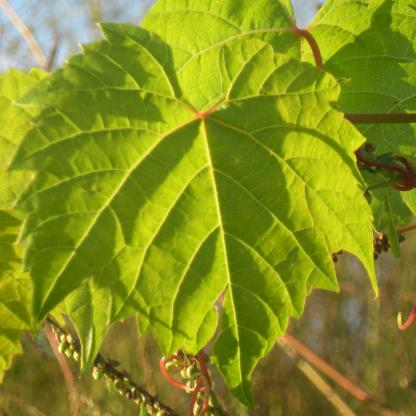grape leaf: (18, 24, 383, 399)
